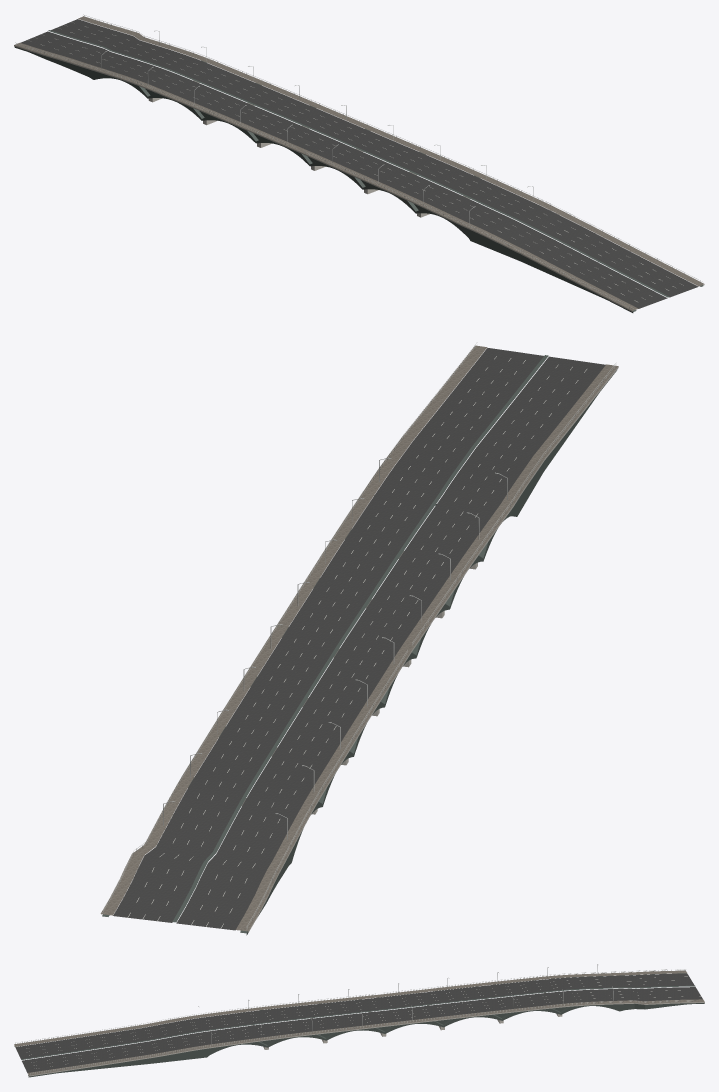
3 renders of one model, top to bottom at view 1: azimuth 30°, elevation 25°; view 2: azimuth 150°, elevation 25°; view 3: azimuth 270°, elevation 25°, orthographic. The views are drawn at different scales.
Parts seen in each view (by area): view 1: Esplanade carriageways, Esplanade footways, Esplanade concrete box girders, Esplanade railings and lamps, Esplanade pier caps and parapet edge, Esplanade lane paint; view 2: Esplanade carriageways, Esplanade footways, Esplanade concrete box girders, Esplanade railings and lamps, Esplanade pier caps and parapet edge, Esplanade lane paint; view 3: Esplanade carriageways, Esplanade footways, Esplanade concrete box girders, Esplanade railings and lamps, Esplanade pier caps and parapet edge, Esplanade lane paint.
Boxes of the visible parts, x1,y1,x2,y2 form: Esplanade carriageways: (20,19,698,308); Esplanade footways: (14,16,704,310); Esplanade concrete box girders: (14,30,703,312); Esplanade railings and lamps: (15,14,702,308); Esplanade pier caps and parapet edge: (14,45,632,311); Esplanade lane paint: (41,26,683,301); Esplanade carriageways: (113,347,605,930); Esplanade footways: (100,345,618,931); Esplanade concrete box girders: (102,355,616,935); Esplanade railings and lamps: (102,342,616,929); Esplanade pier caps and parapet edge: (242,366,618,932); Esplanade lane paint: (128,356,586,928); Esplanade carriageways: (15,973,702,1072); Esplanade footways: (14,970,704,1075); Esplanade concrete box girders: (14,973,704,1077); Esplanade railings and lamps: (15,964,697,1074); Esplanade pier caps and parapet edge: (28,992,704,1076); Esplanade lane paint: (26,976,700,1068).
Bounding box in the file's own units: 144 × 16.59 × 402.
Materials: 6 (2 with a texture image).
